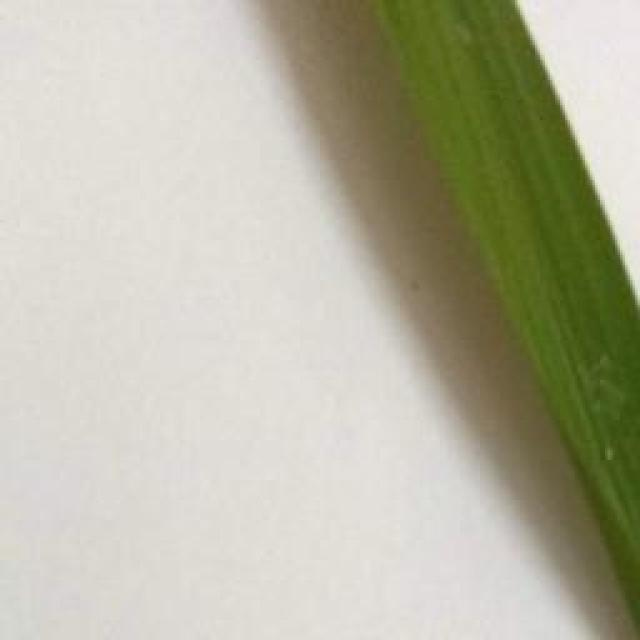Healthy-Plant: (373, 0, 640, 640)
